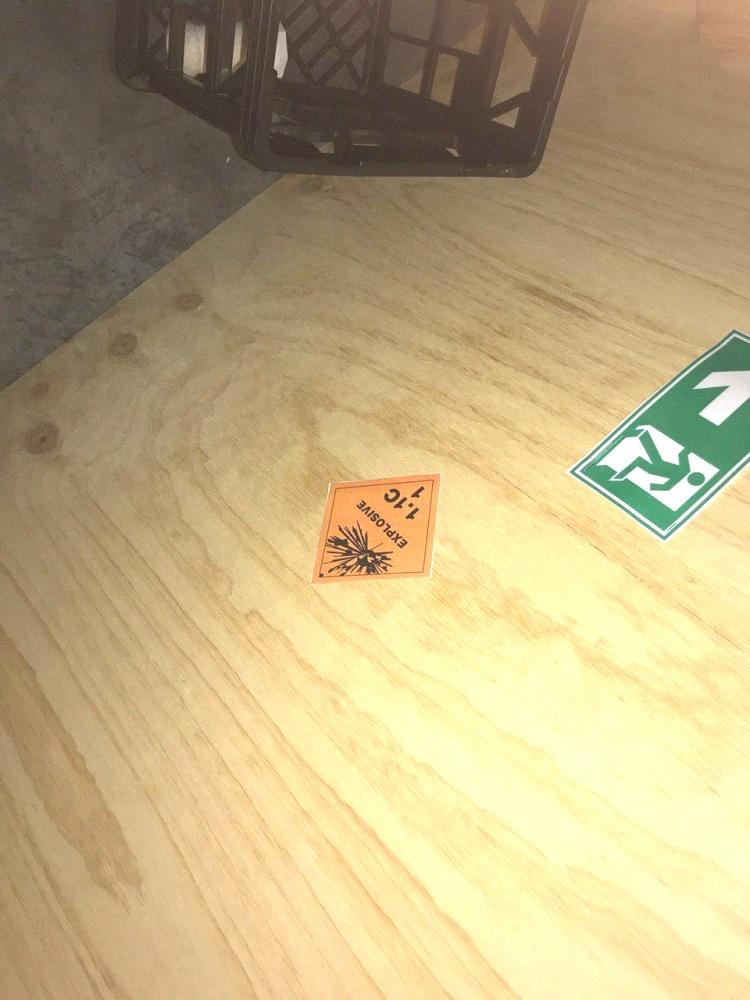explosive: (313, 470, 439, 582)
